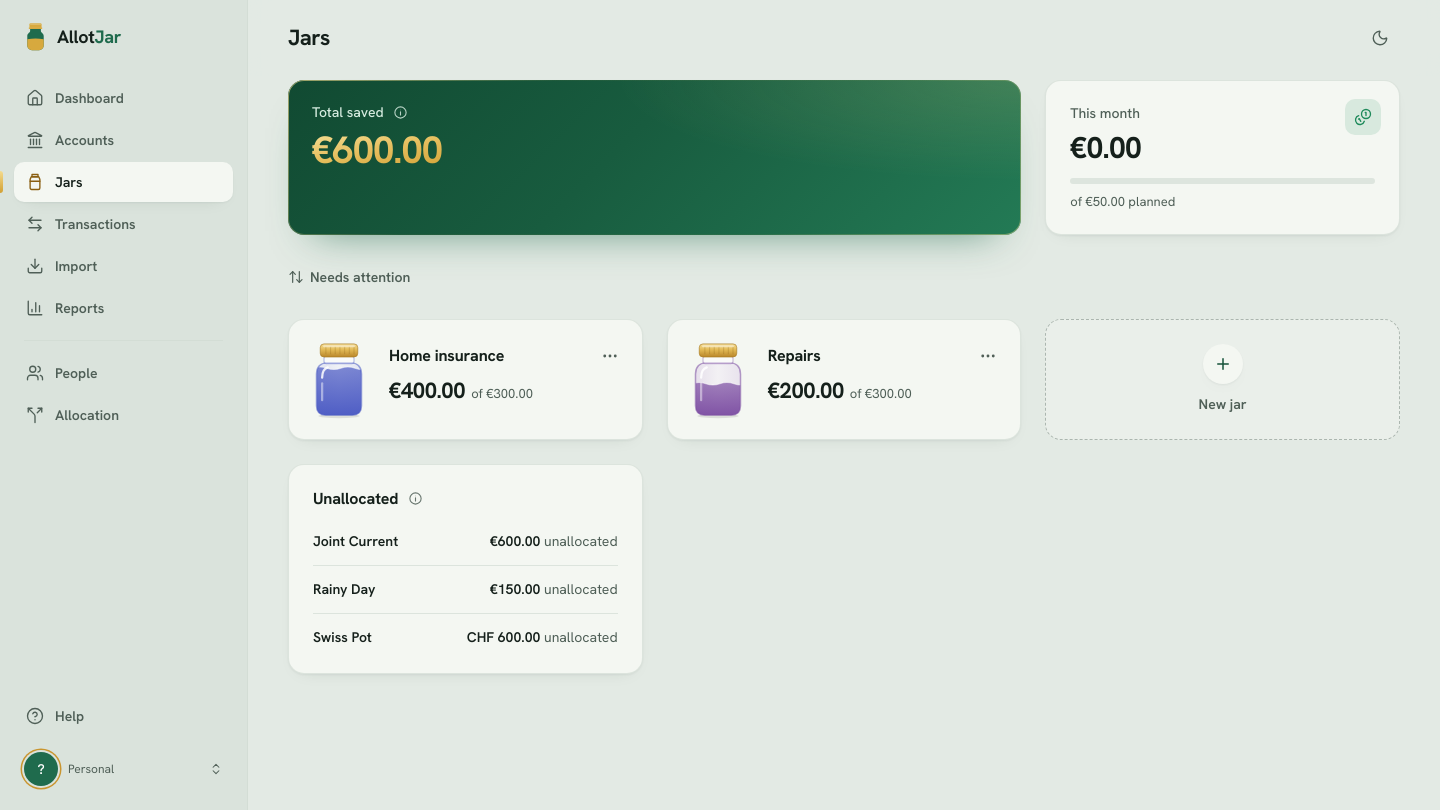
Test: JarsPage — Move money across accounts (rule 80) › leaves an account in another currency out of the destinations
Click the button named "Home insurance: more actions": [610, 356] box [590,336,630,376]
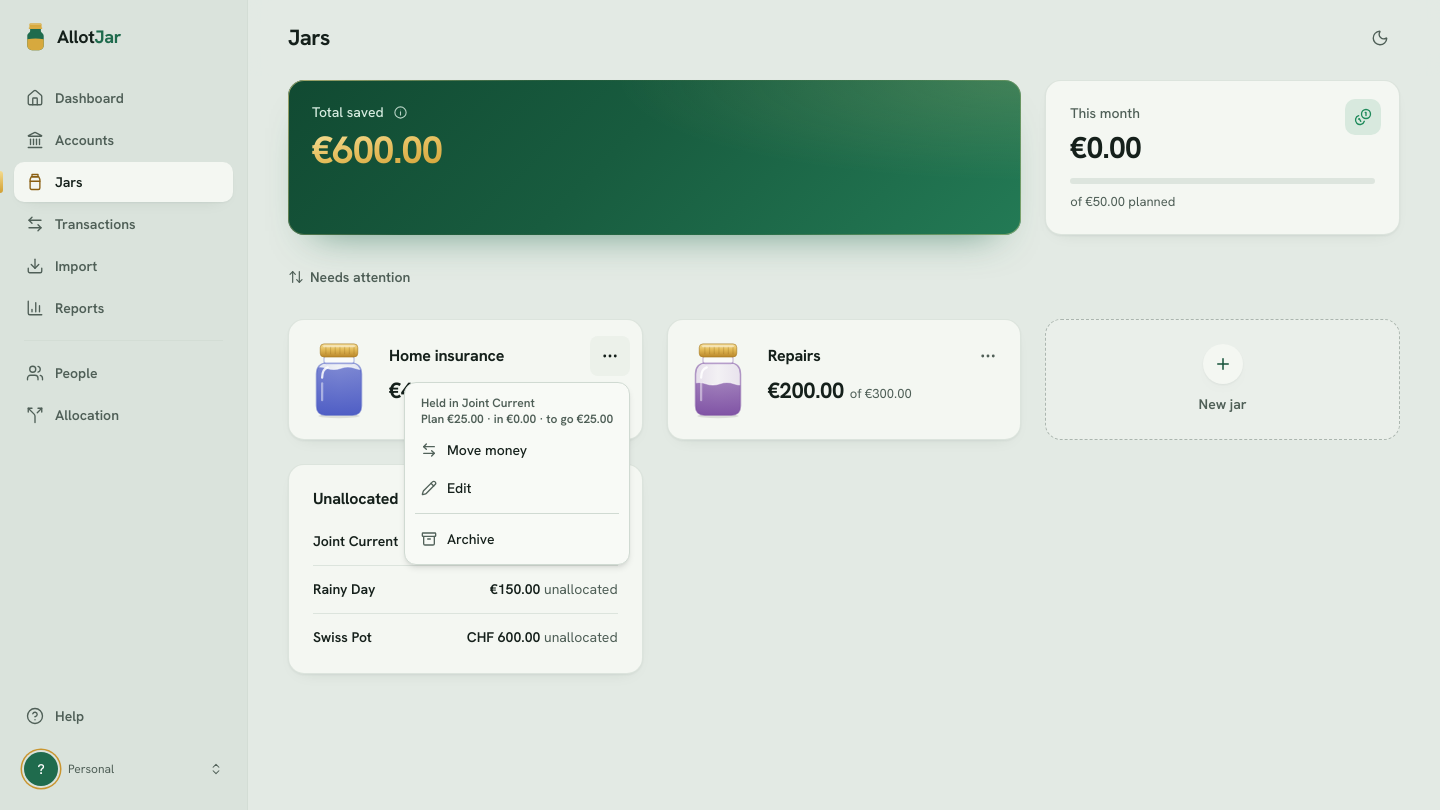
Click the menu item "Move money": [474, 450] box [421,441,527,459]
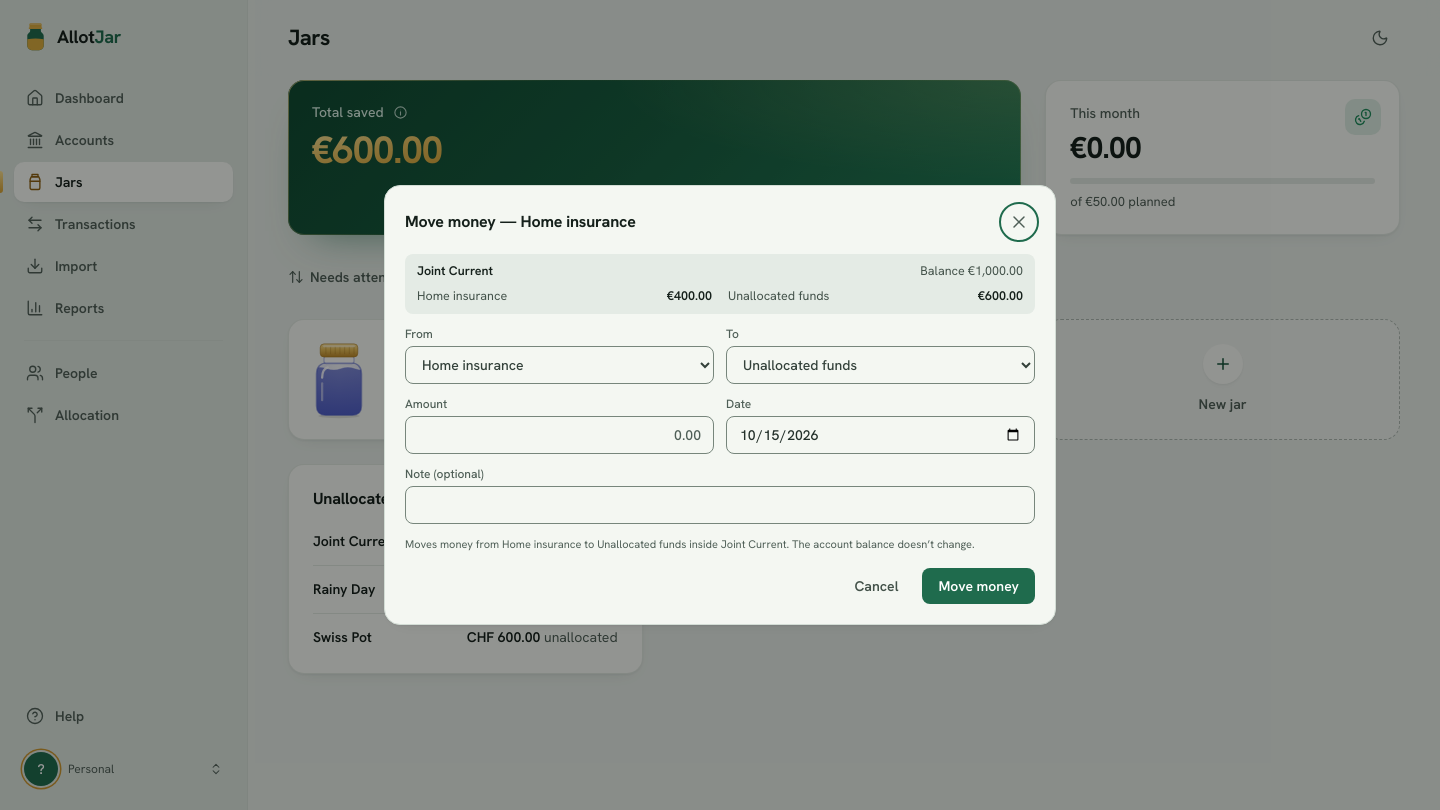
Result: the dropdown named "Move from" is shown at [405,346,714,384]
